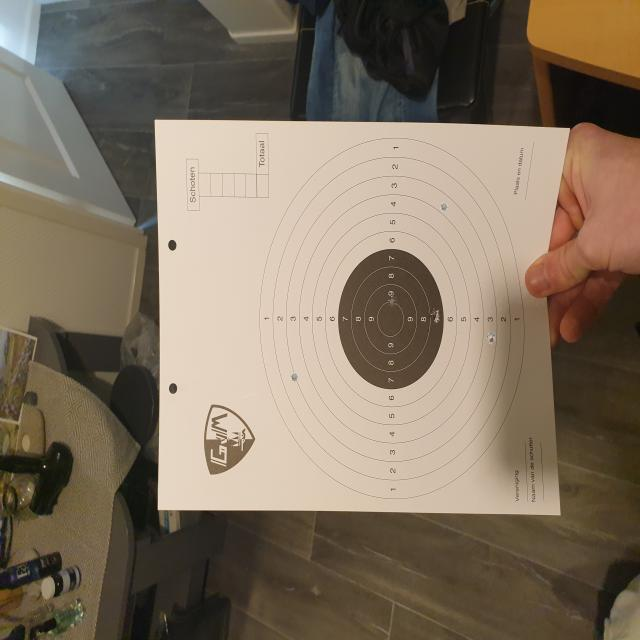10: (388, 295, 397, 307)
3: (486, 331, 496, 345), (440, 201, 449, 213), (290, 372, 298, 382)
8: (430, 308, 440, 322)
Target: (258, 134, 525, 499)
black_contour: (338, 248, 443, 388)
